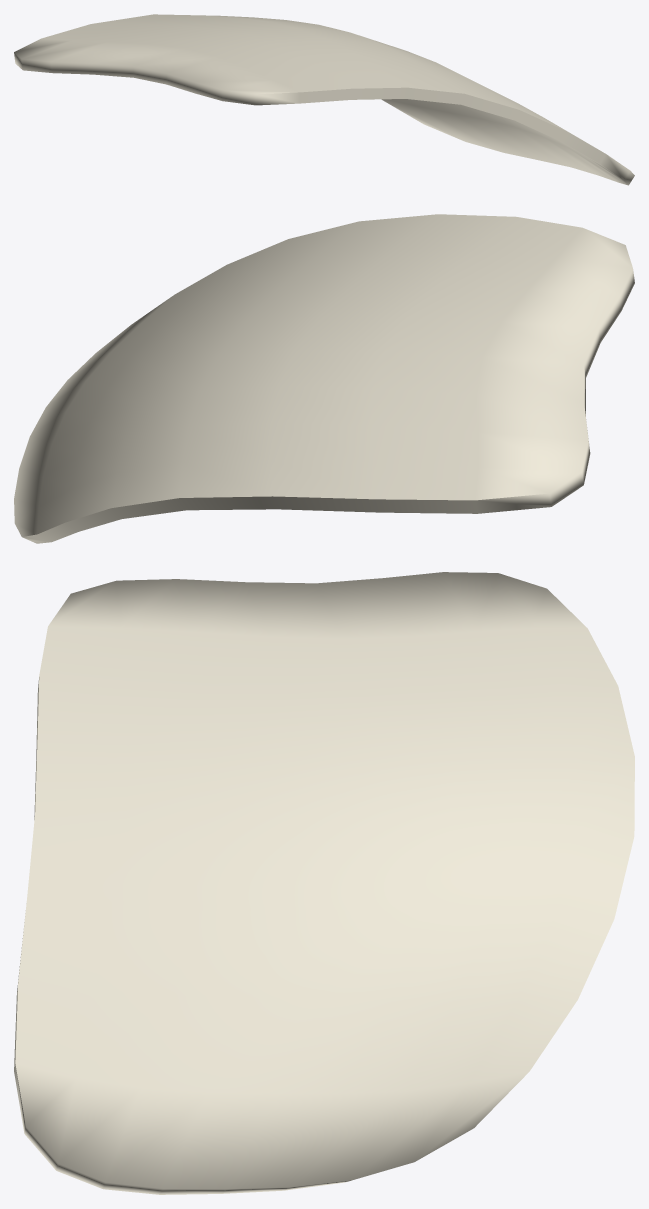
3 renders of one model, top to bottom at view 1: azimuth 30°, elevation 25°; view 2: azimuth 150°, elevation 25°; view 3: azimuth 270°, elevation 25°, orthographic. The views are drawn at different scales.
Parts seen in each view (by area): view 1: ZA_4258d76a5bf3fb8e; view 2: ZA_4258d76a5bf3fb8e; view 3: ZA_4258d76a5bf3fb8e.
Part boxes in pixels (<box>): ZA_4258d76a5bf3fb8e: <box>14,14,634,185</box>; ZA_4258d76a5bf3fb8e: <box>14,214,634,543</box>; ZA_4258d76a5bf3fb8e: <box>14,572,634,1194</box>.
Size of the model in its own units: 0.0236 by 0.00948 by 0.0163.
